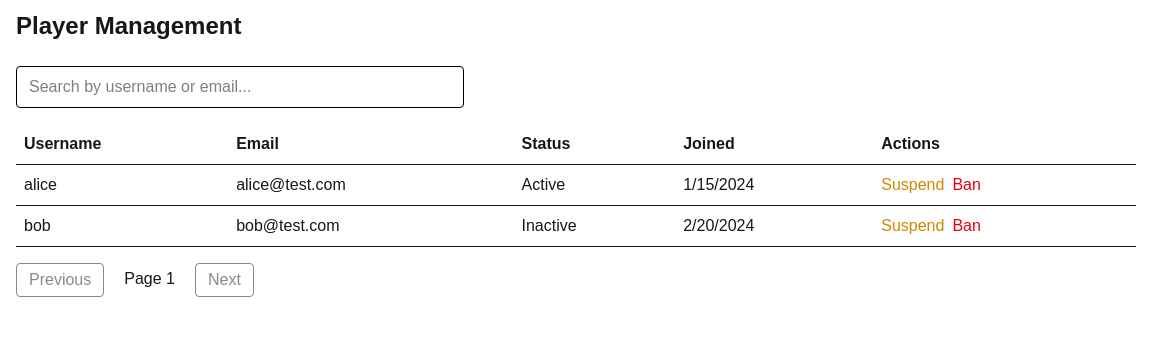
it: AdminPlayersPage › shows success message after action
Check: the text "alice" is shown, box [16,164,228,206]
Click the button with aria-label "suspend alice" at (913, 185), box [881,173,944,197]
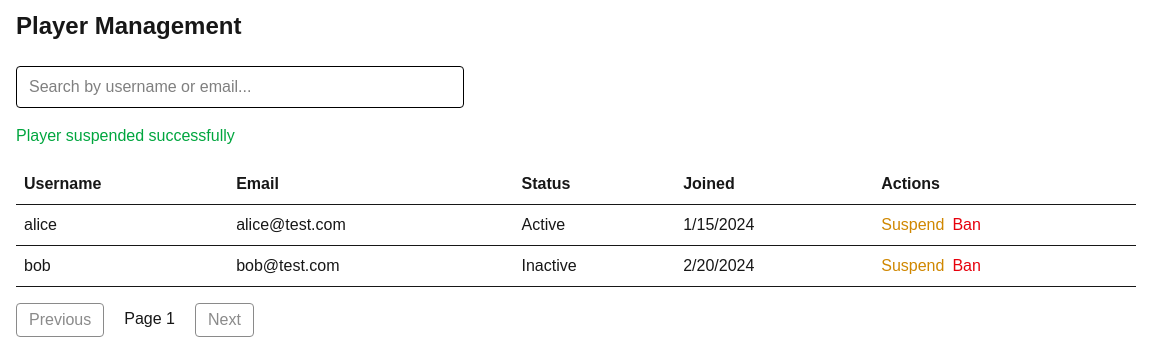
Check: the text "Player suspended successfully" is shown, box [16,127,235,144]
